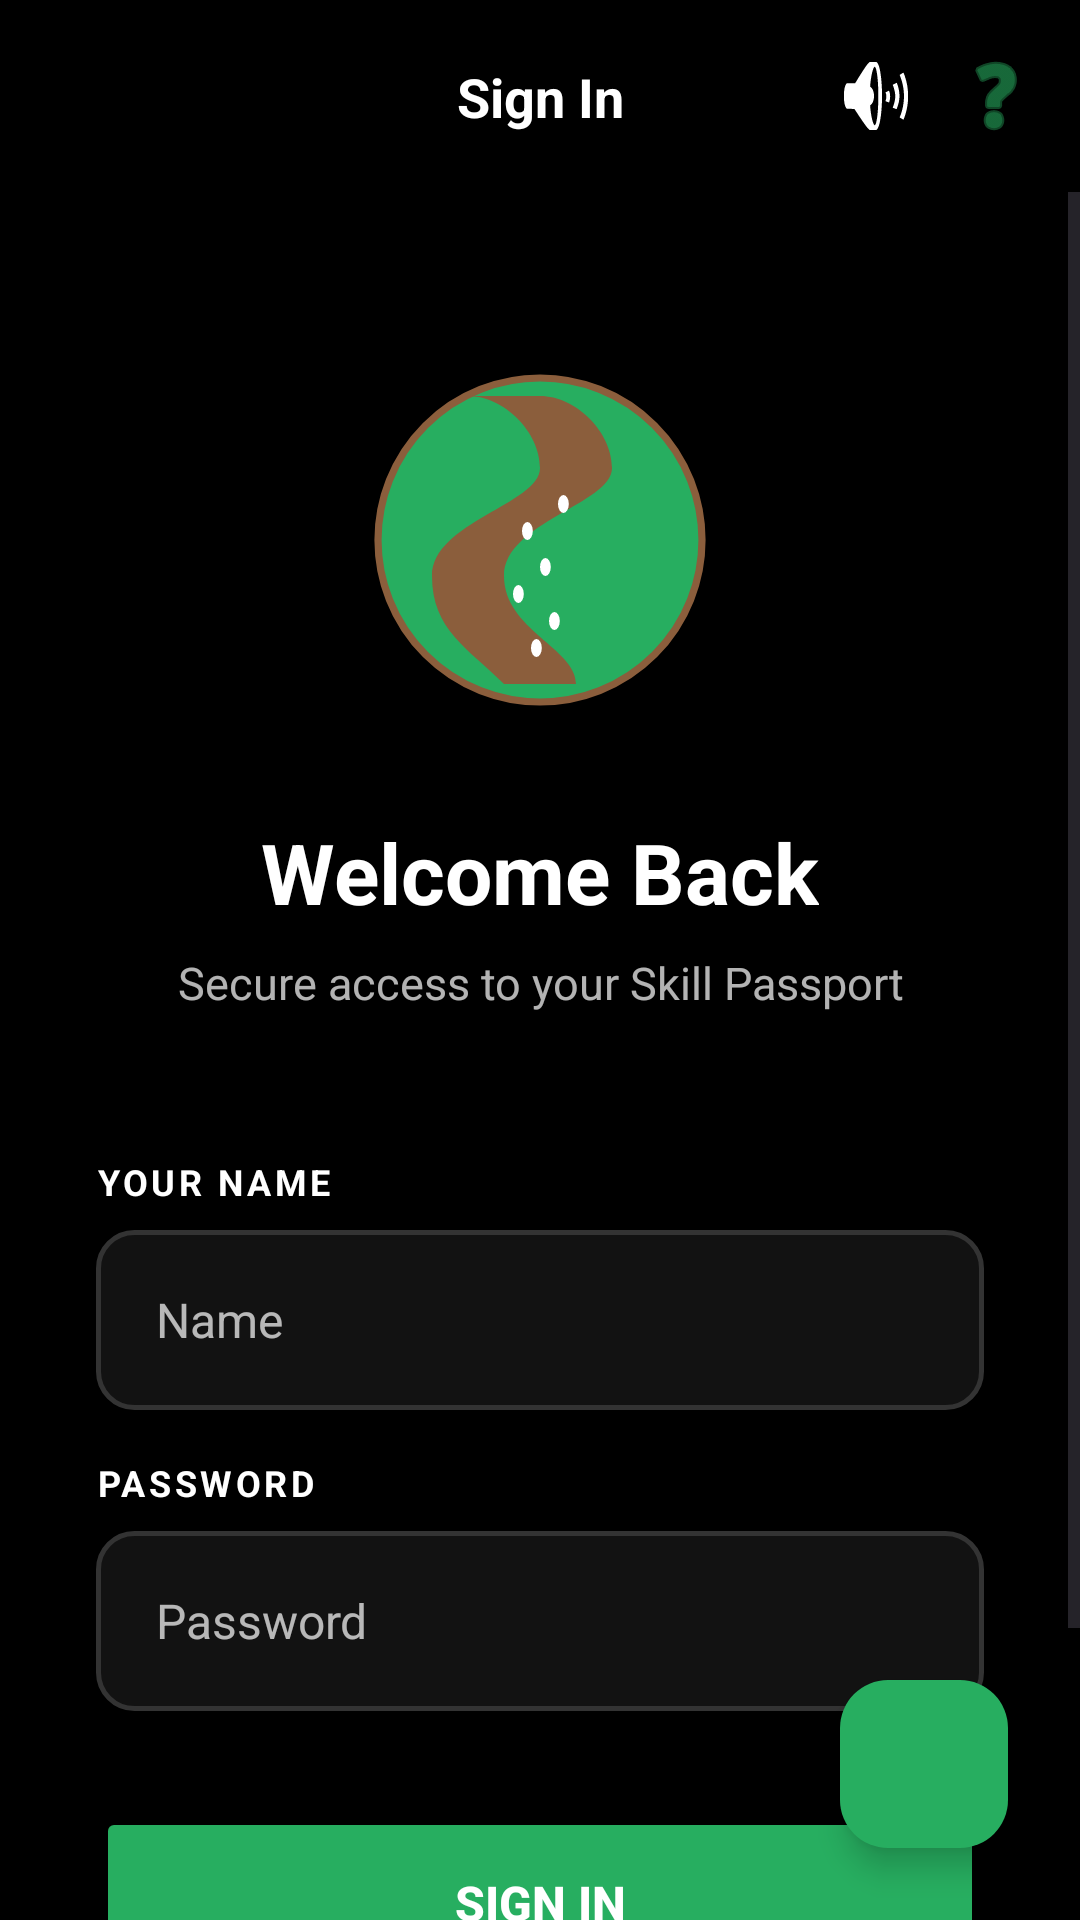

Screen size 1080 × 1920. Icon name, then its center in pixels as [x,y]:
Explain: [996,96]
Listen: [876,96]
